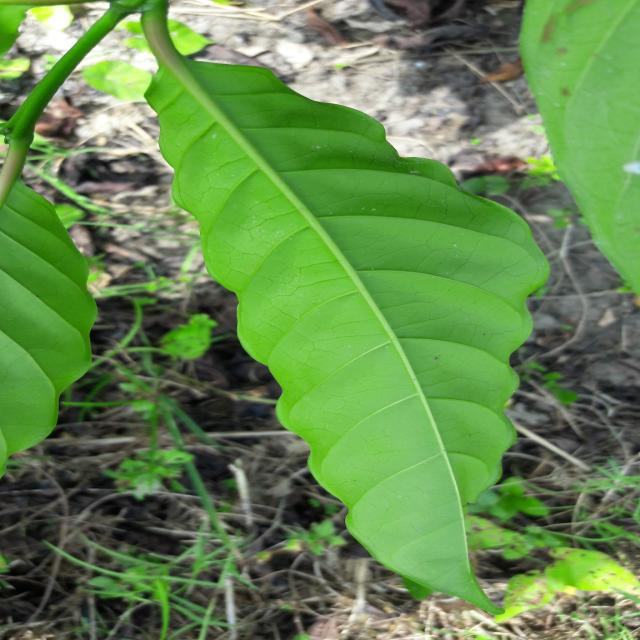Sanas: (101, 0, 551, 618)
